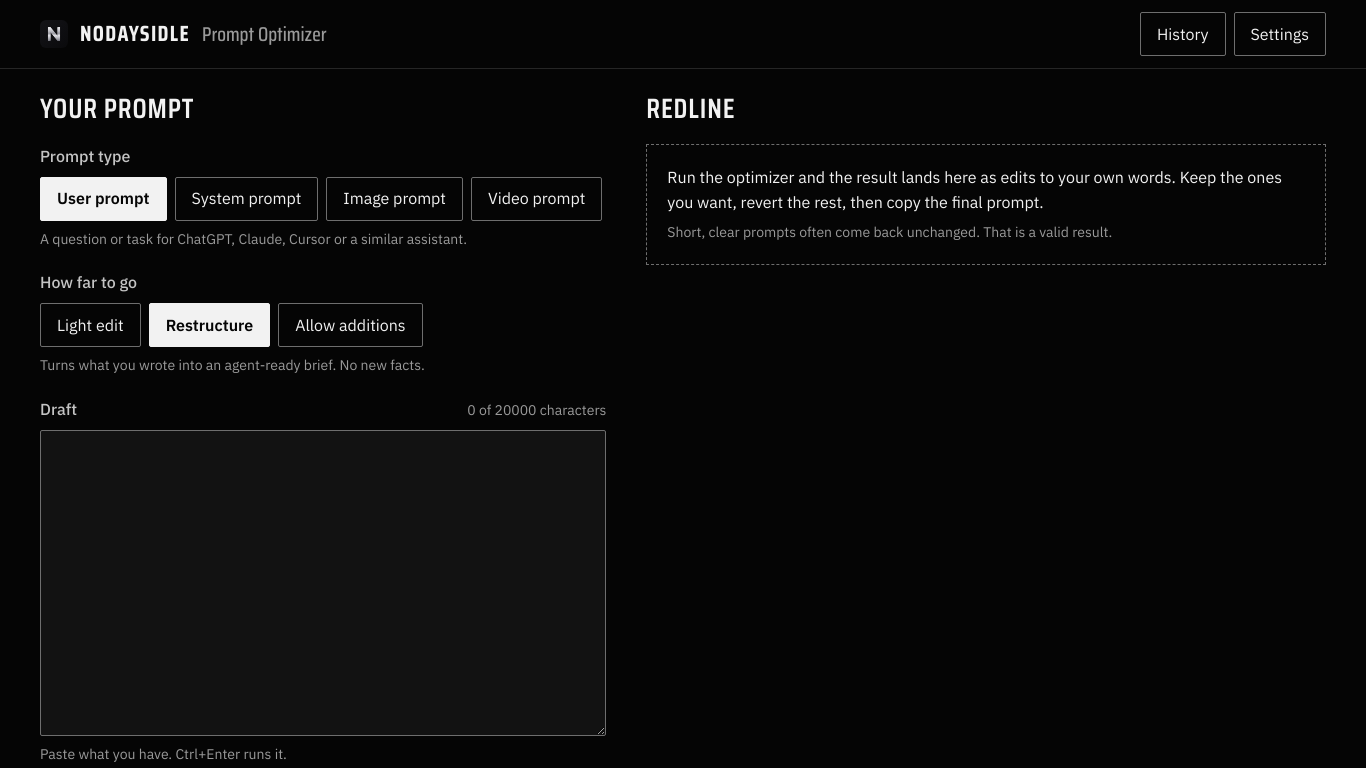
Test: the draft side › shows clipboard failures
The image size is (1366, 768).
Type "My prompt" into the text box labelled "Draft" at (323, 583), box [40,430,606,736]
(page scrolled)
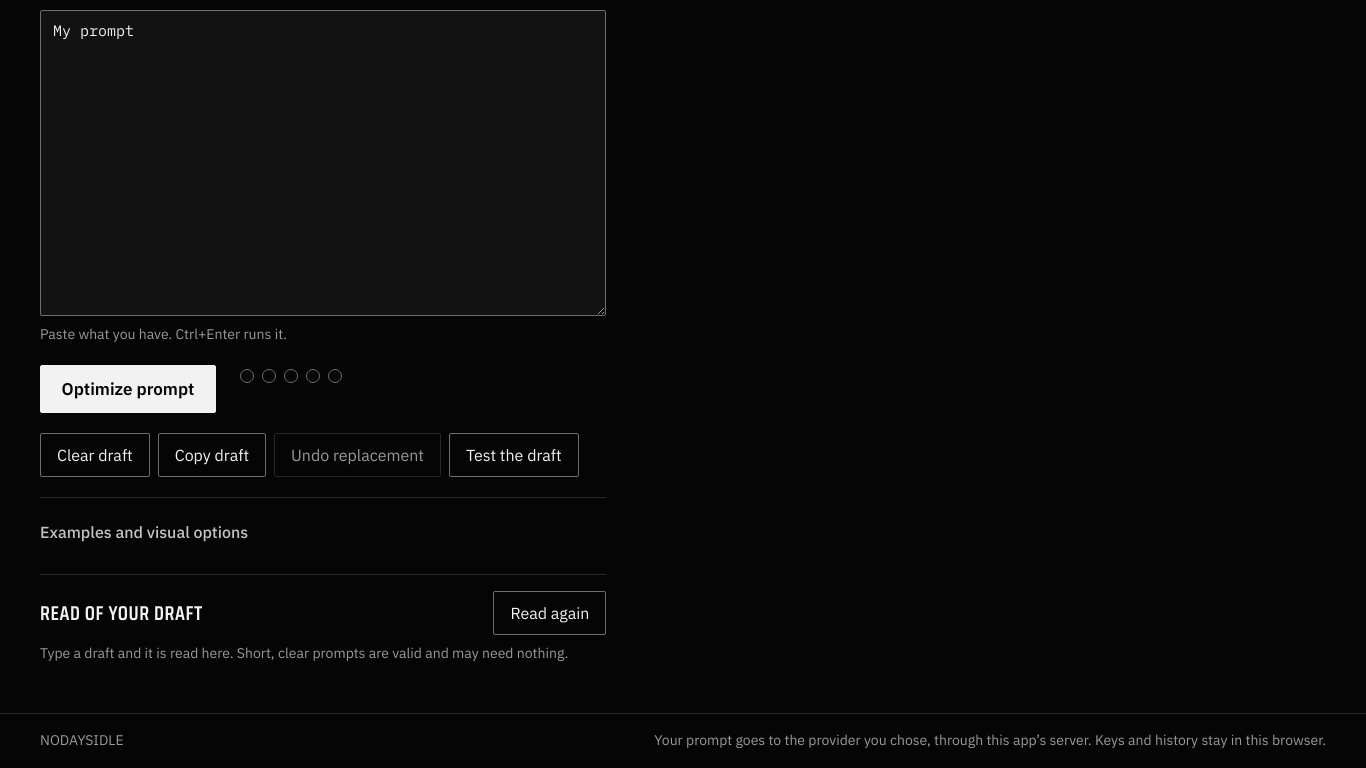
Click the button "Copy draft" at (212, 455), box [158,433,266,477]
(page scrolled)
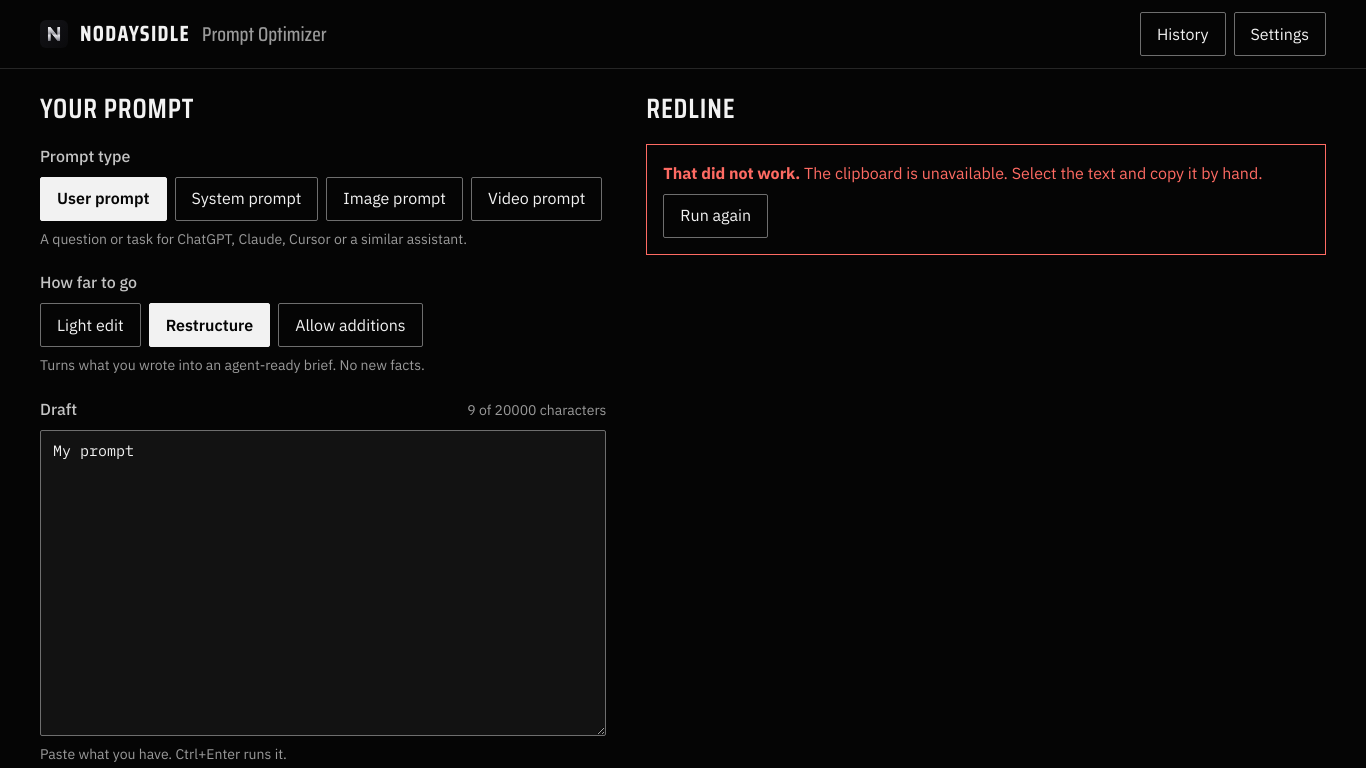
expect the text "clipboard is unavailable" is shown: met, box [804,163,1263,183]
